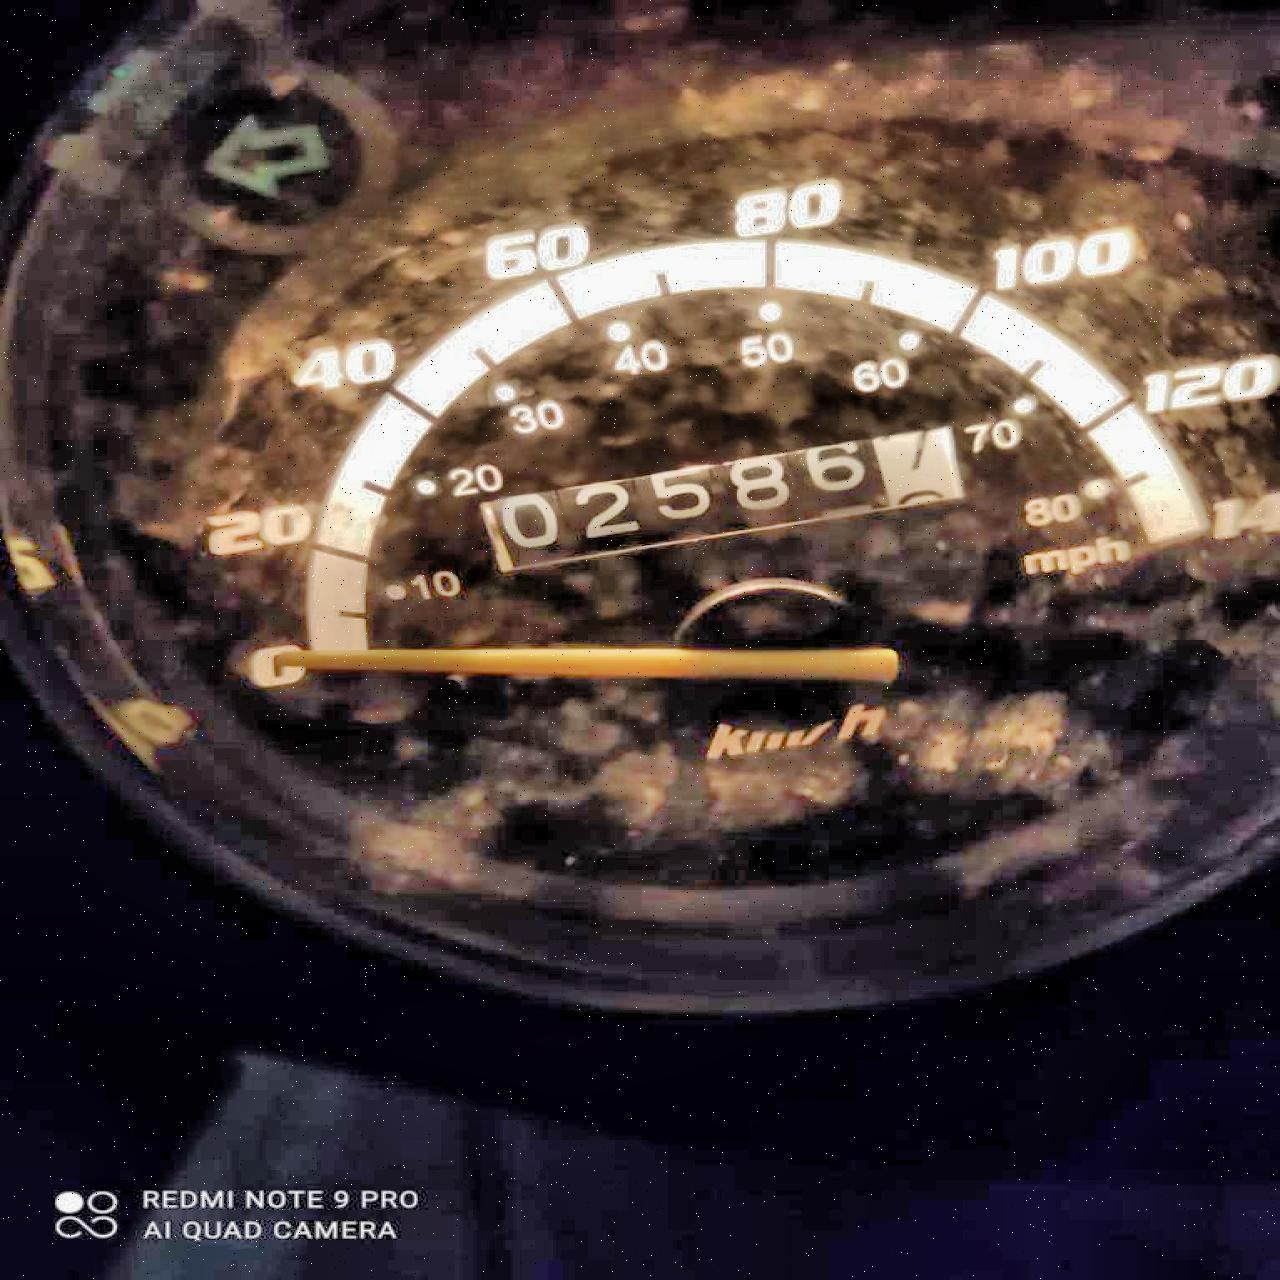0: (493, 492, 560, 556), (475, 459, 504, 490)
2: (570, 474, 640, 542)
5: (651, 463, 710, 518)
6: (803, 440, 865, 490)
7: (877, 425, 941, 474), (958, 424, 987, 454)
8: (726, 454, 792, 511)
odometer: (468, 424, 987, 581)
